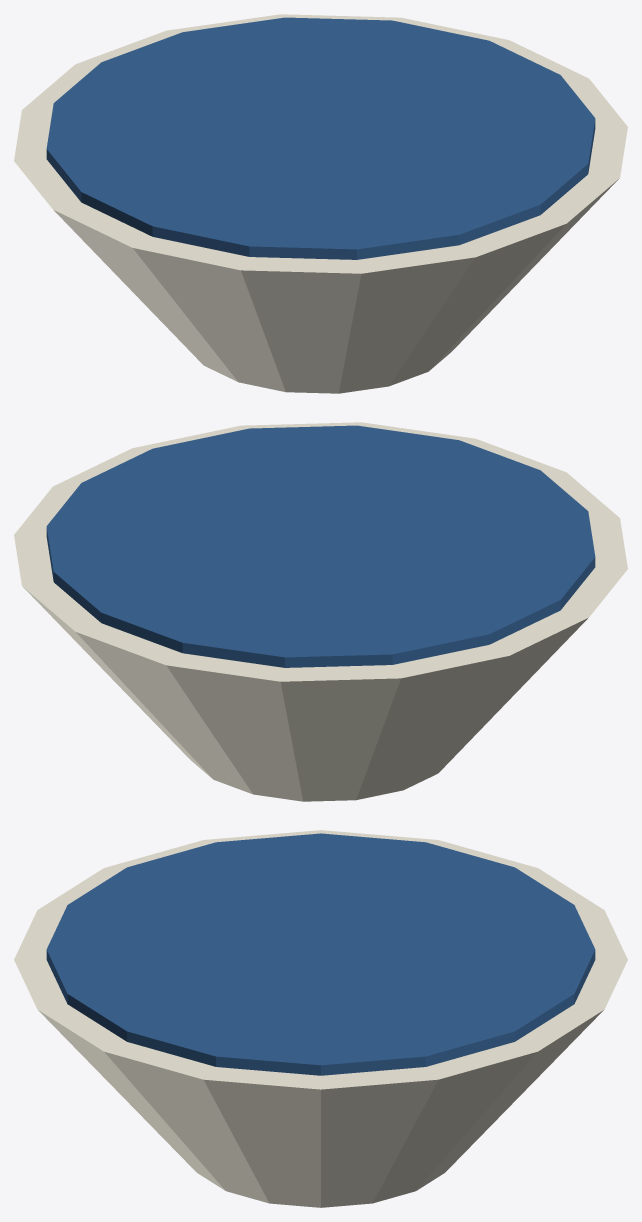
The model's file is Bowl.glb.
The picture shows the model from 3 angles, top to bottom: view 1: azimuth 30°, elevation 25°; view 2: azimuth 150°, elevation 25°; view 3: azimuth 270°, elevation 25°; orthographic projection.
Visible parts, largest first — view 1: Bowl; view 2: Bowl; view 3: Bowl.
Boxes of the visible parts, box(x1,y1,x2,y2) form: Bowl: box(14, 14, 627, 393); Bowl: box(14, 422, 627, 801); Bowl: box(14, 830, 627, 1207).
Size of the model in its own units: 0.32 by 0.116 by 0.32.
